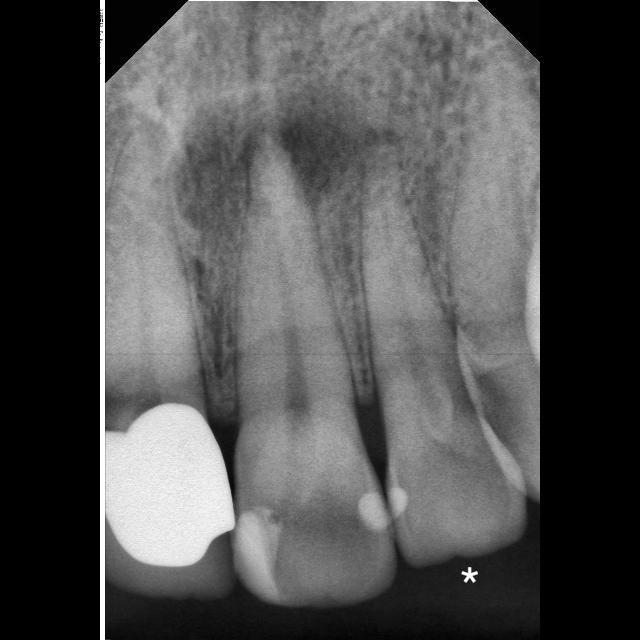test-segment: (358, 145, 524, 565)
